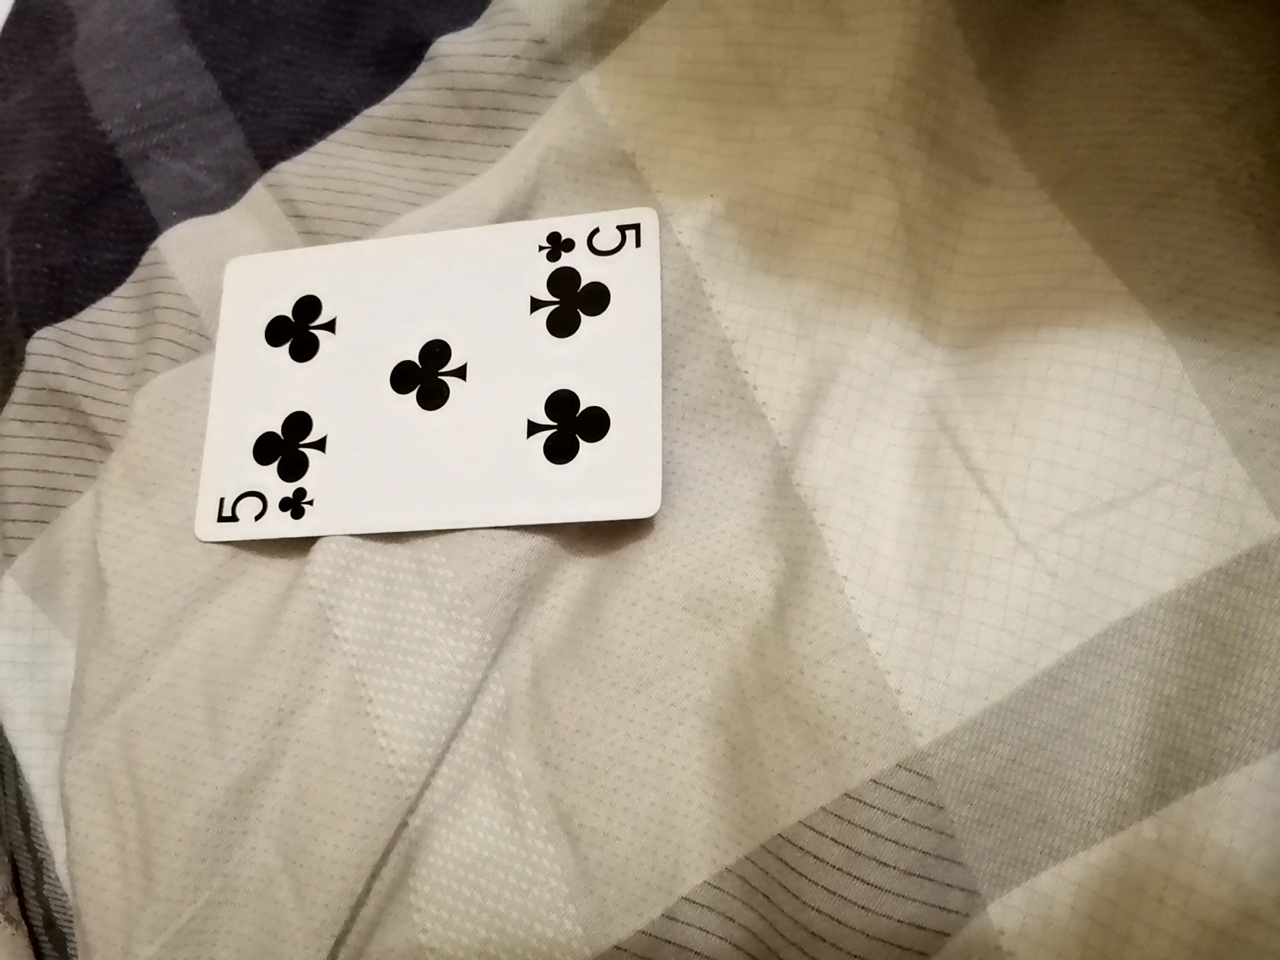mh 5: (199, 208, 675, 550)
